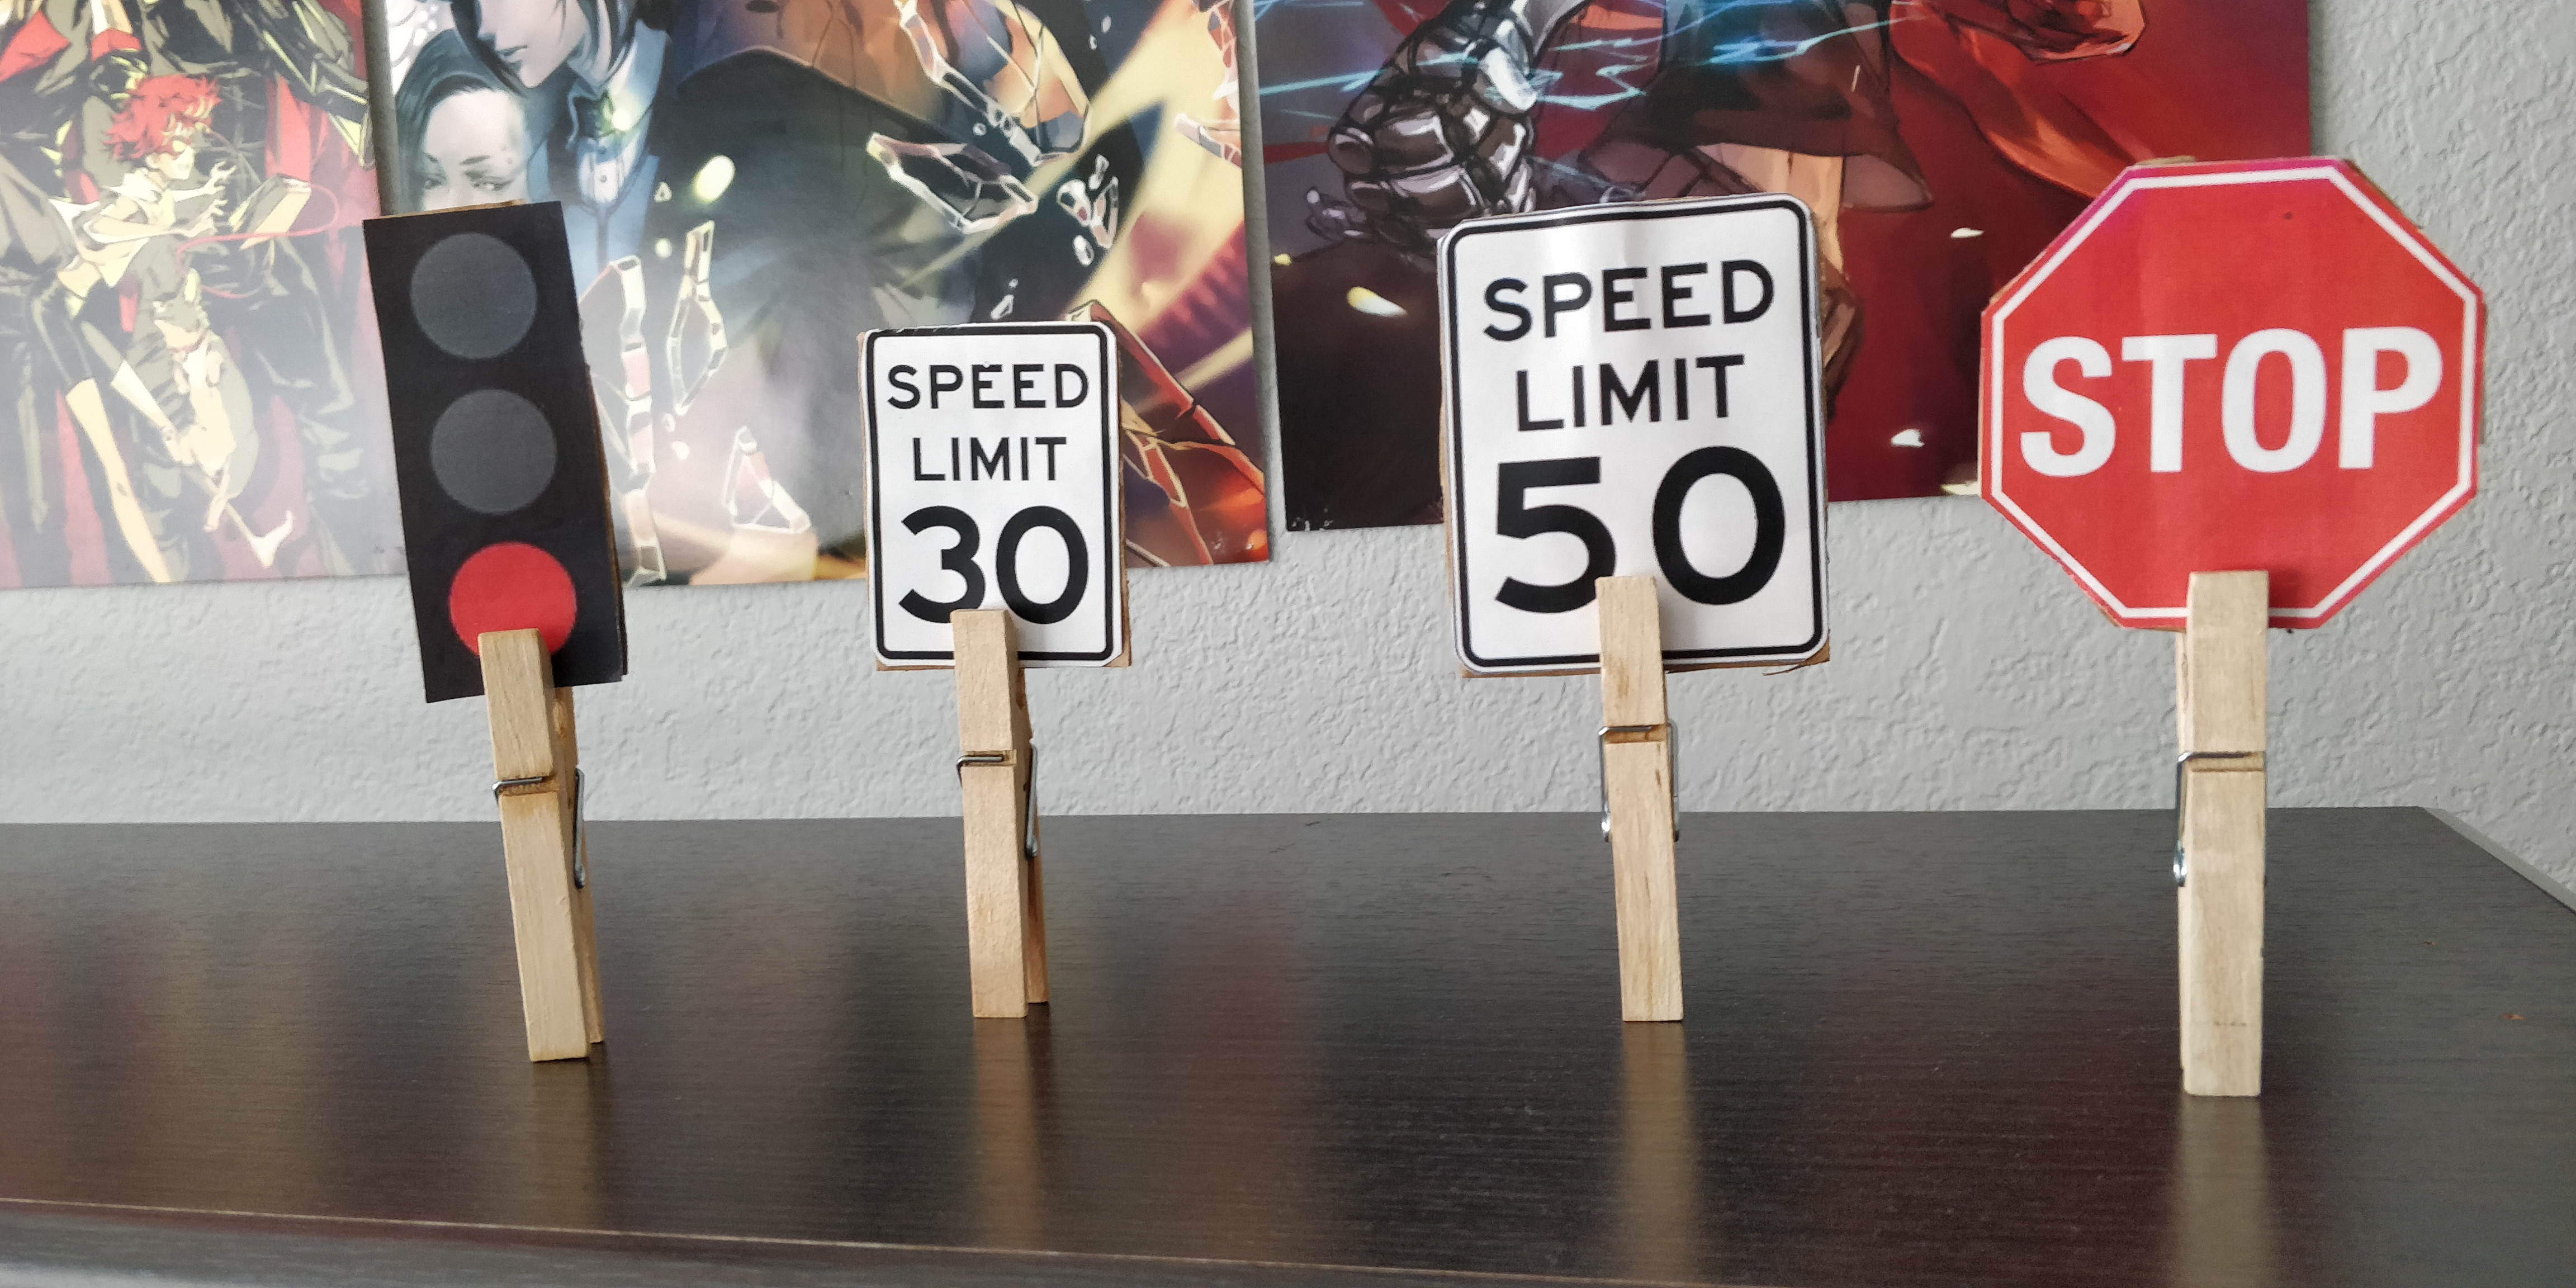Speed Limit 30: (864, 325, 1127, 665)
Speed Limit 50: (1442, 199, 1827, 675)
Stop Sign: (1976, 159, 2486, 636)
red light: (361, 212, 631, 706)
